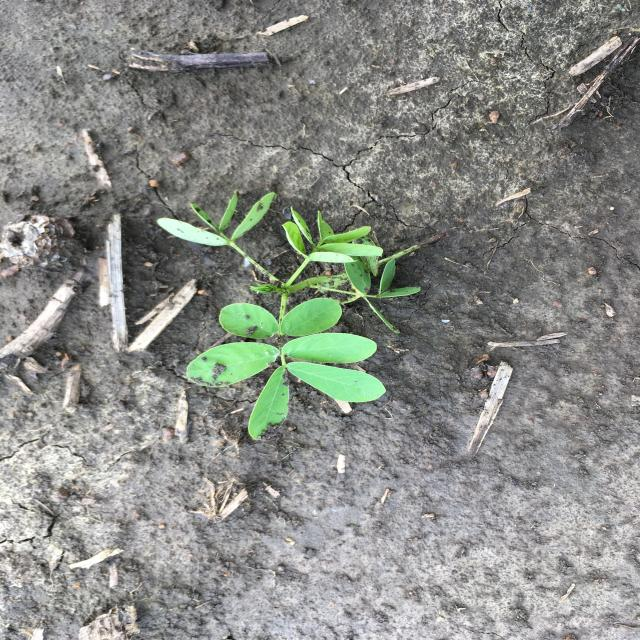Sicklepod: (154, 189, 427, 445)
